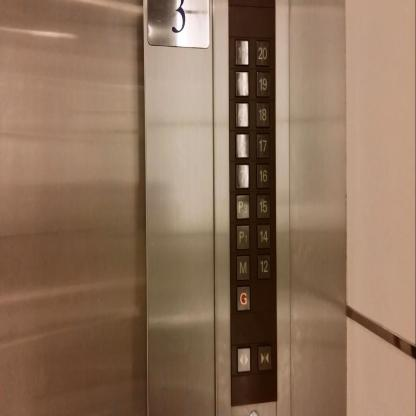10: (234, 70, 249, 96)
11: (235, 38, 249, 66)
12: (257, 253, 271, 279)
14: (256, 223, 271, 249)
15: (256, 194, 271, 220)
16: (256, 163, 271, 190)
17: (256, 133, 270, 159)
18: (256, 102, 270, 128)
19: (255, 70, 270, 98)
20: (255, 39, 270, 67)
7: (235, 162, 250, 190)
8: (235, 132, 250, 159)
9: (235, 102, 249, 128)
G: (236, 284, 250, 312)
M: (236, 254, 250, 280)
P1: (235, 223, 250, 250)
P3: (235, 193, 250, 220)
close: (257, 344, 272, 372)
open: (237, 346, 251, 372)
